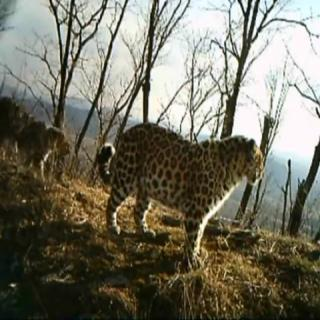Leopard: (119, 122, 308, 260)
